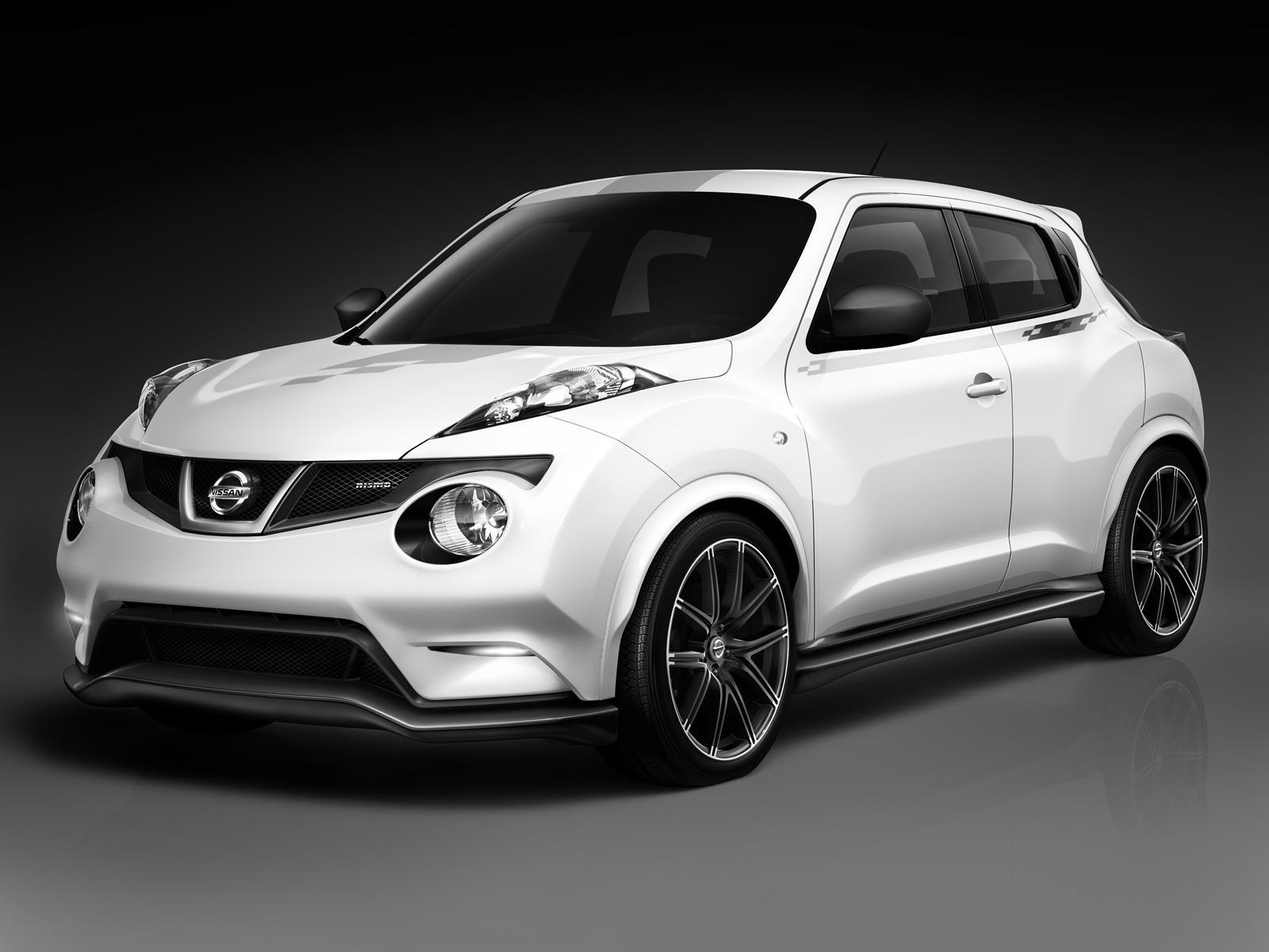car: (58, 167, 1217, 784)
